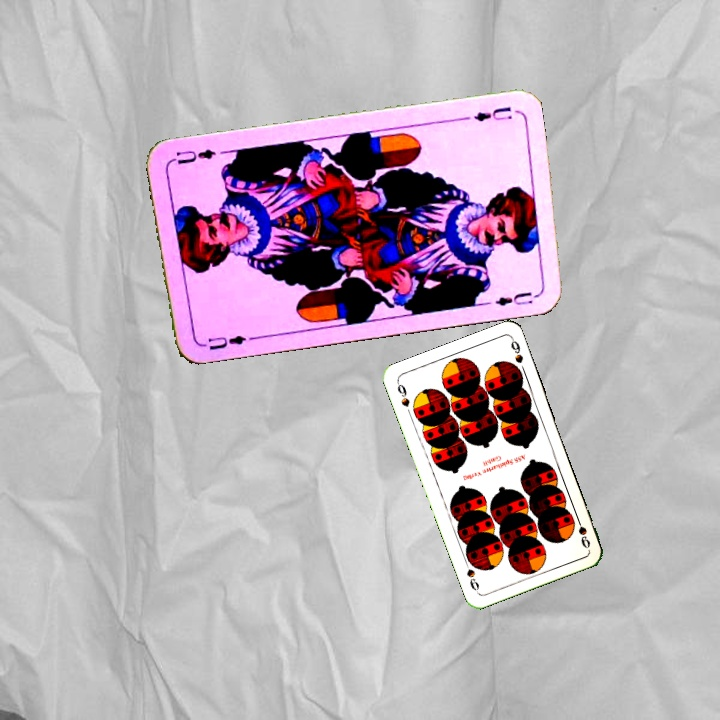EU: (197, 331, 249, 353), (469, 102, 515, 125)
S9: (572, 511, 593, 551), (393, 378, 412, 409)
